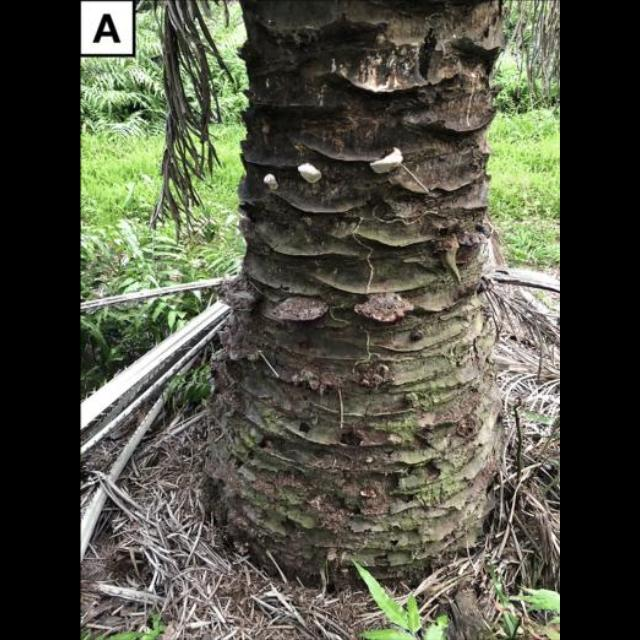ganoderma: (355, 293, 418, 326), (273, 296, 331, 322), (370, 146, 406, 175), (461, 221, 496, 249)
primordium: (299, 163, 324, 186), (263, 173, 281, 191)
